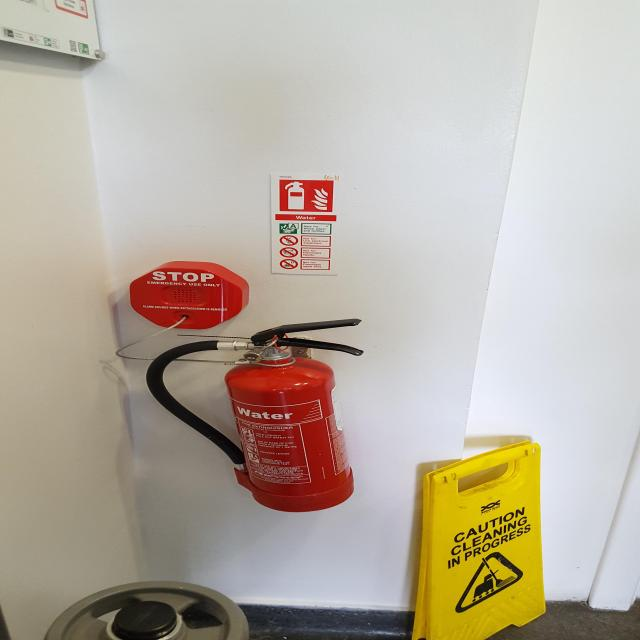fire_extinguisher: (146, 318, 370, 516)
